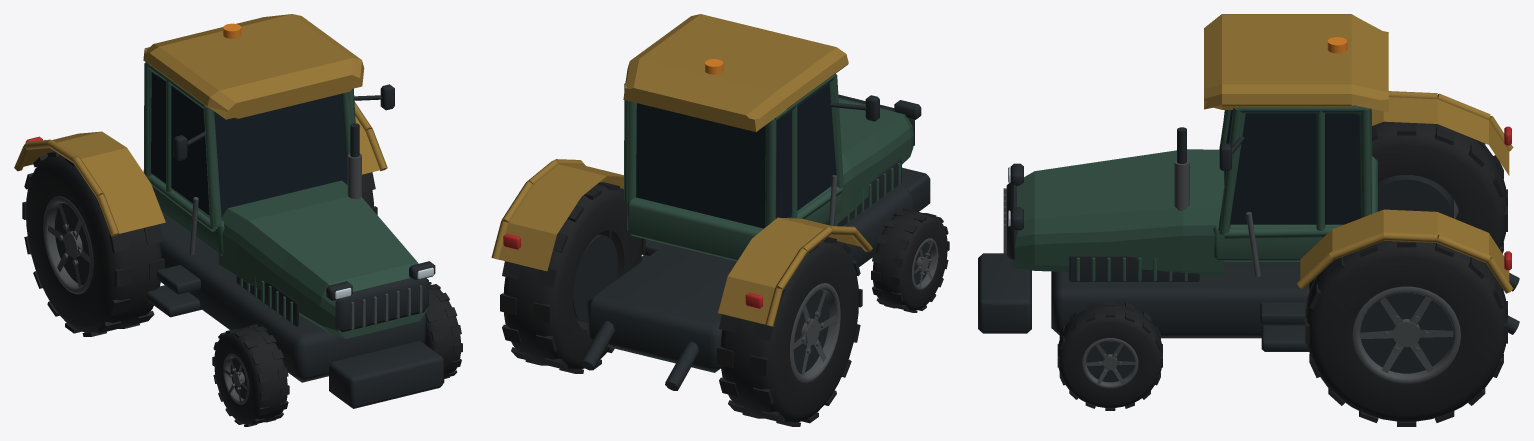
The model's file is tractor.glb.
The picture shows the model from 3 angles, left to right: view 1: azimuth 30°, elevation 25°; view 2: azimuth 150°, elevation 25°; view 3: azimuth 270°, elevation 25°; orthographic projection. The views are drawn at different scales.
Parts seen in each view (by area): view 1: tractor; view 2: tractor; view 3: tractor.
Boxes of the visible parts, x1,y1,x2,y2 form: tractor: (14,14,462,426); tractor: (491,14,949,426); tractor: (978,14,1519,426).
Bounding box in the file's own units: 2.67 × 2.73 × 4.22.
